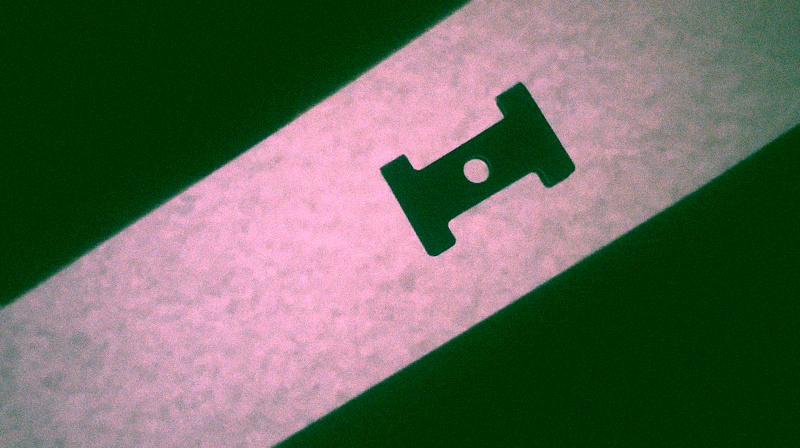O002: (374, 80, 577, 259)
